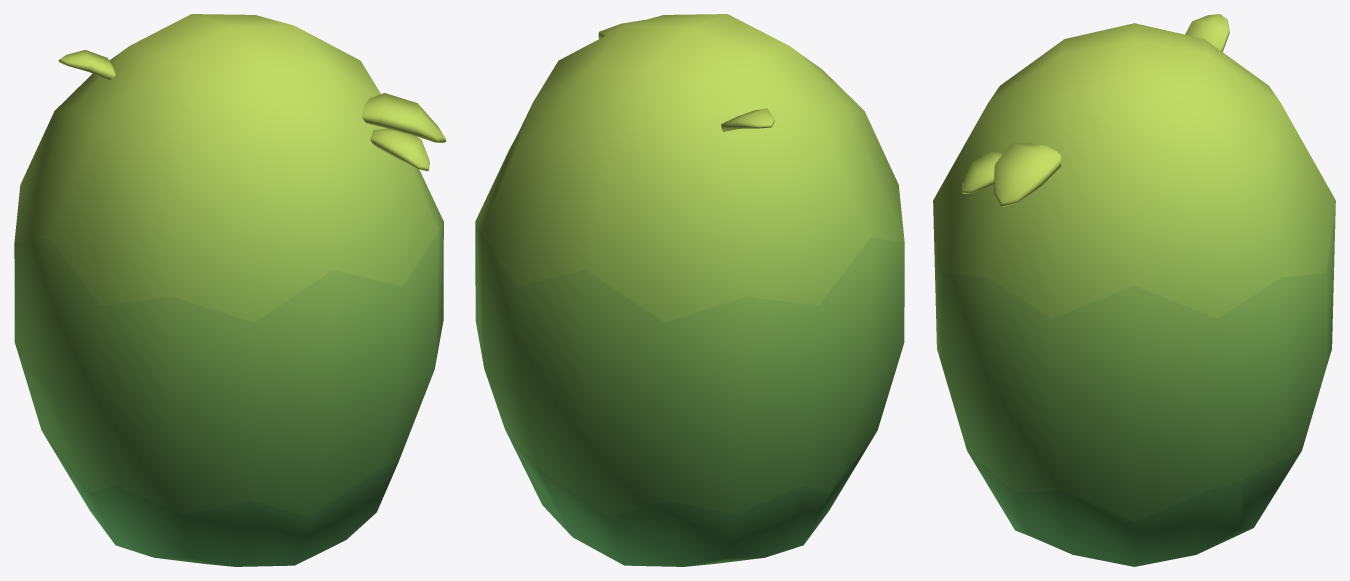
File: platform_kit009.fbx
3 renders of one model, left to right at view 1: azimuth 30°, elevation 25°; view 2: azimuth 150°, elevation 25°; view 3: azimuth 270°, elevation 25°, orthographic. The views are drawn at different scales.
Parts seen in each view (by area): view 1: platform_kit009; view 2: platform_kit009; view 3: platform_kit009.
Part boxes in pixels (<box>): platform_kit009: <box>14,14,446,566</box>; platform_kit009: <box>475,14,904,566</box>; platform_kit009: <box>933,14,1335,566</box>.
Bounding box in the file's own units: 125 × 166 × 125.
1 material, 1 textured.
